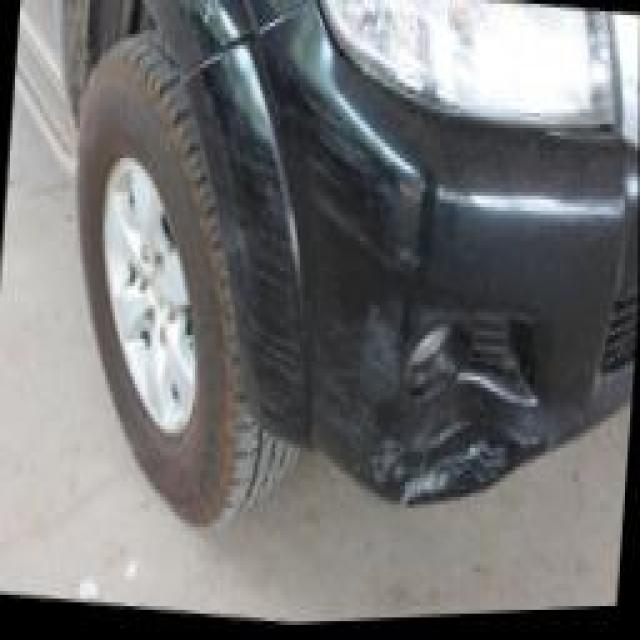Bumper: (185, 0, 617, 525)
